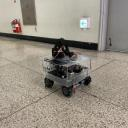cart: (42, 55, 92, 97)
